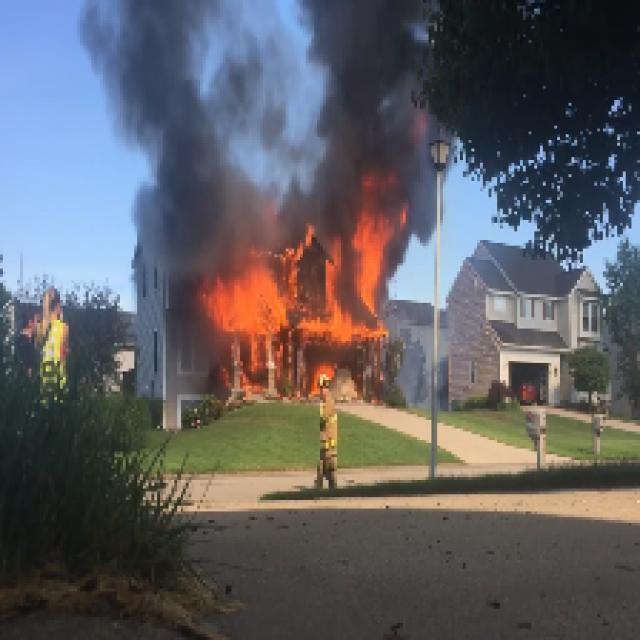Fire: (212, 260, 372, 337), (352, 177, 394, 303)
Smoke: (83, 3, 283, 200), (297, 3, 417, 160), (137, 192, 209, 272)
